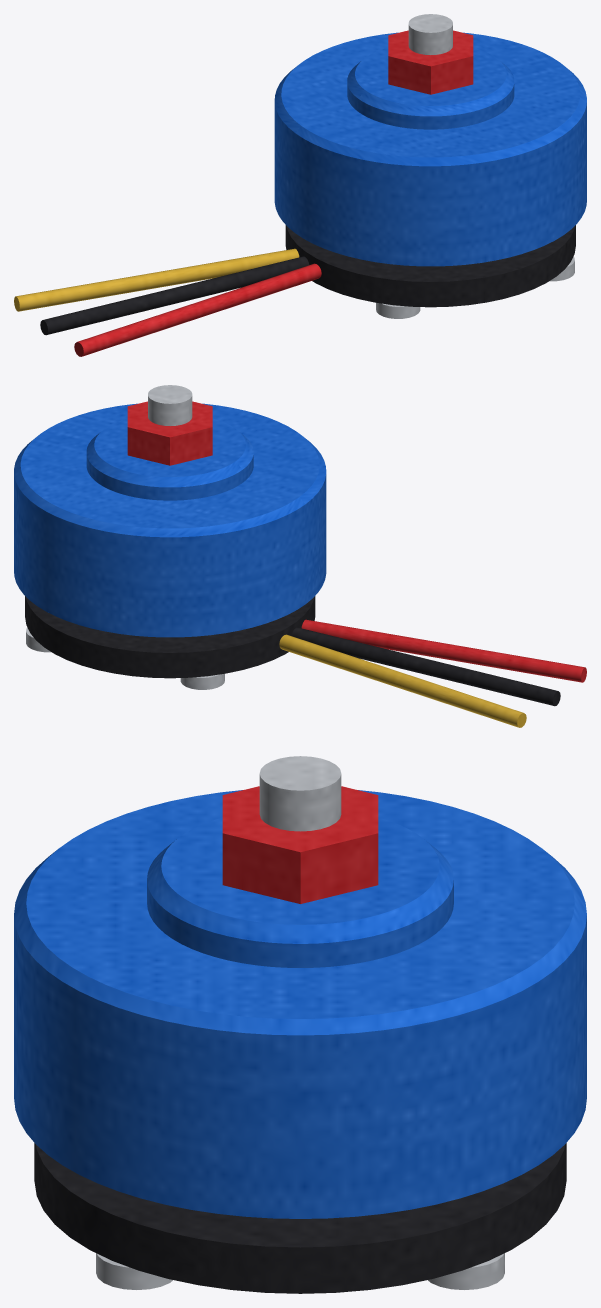
Rendered from fpv_motor.obj.
3 views of the same model, one above another, from view 1: azimuth 30°, elevation 25°; view 2: azimuth 150°, elevation 25°; view 3: azimuth 270°, elevation 25° (orthographic). The views are drawn at different scales.
Visible parts, largest first — view 1: bell, wire, base_plate, prop_nut, shaft, mount_screw; view 2: bell, wire, base_plate, prop_nut, shaft, mount_screw; view 3: bell, base_plate, prop_nut, shaft, mount_screw.
Part boxes in pixels (<box>): bell: <box>274,32,586,266</box>; wire: <box>14,248,321,356</box>; base_plate: <box>285,225,575,307</box>; prop_nut: <box>388,30,473,94</box>; shaft: <box>408,14,452,54</box>; mount_screw: <box>376,257,574,318</box>; bell: <box>14,403,326,637</box>; wire: <box>279,619,586,727</box>; base_plate: <box>25,596,315,678</box>; prop_nut: <box>127,401,212,465</box>; shaft: <box>148,385,192,425</box>; mount_screw: <box>26,628,224,689</box>; bell: <box>14,790,586,1218</box>; base_plate: <box>34,1143,566,1293</box>; prop_nut: <box>222,786,378,903</box>; shaft: <box>259,756,341,831</box>; mount_screw: <box>96,1253,504,1289</box>.
Bounding box in the file's own units: 5.4 × 2.32 × 2.8.
1 material, 1 textured.
